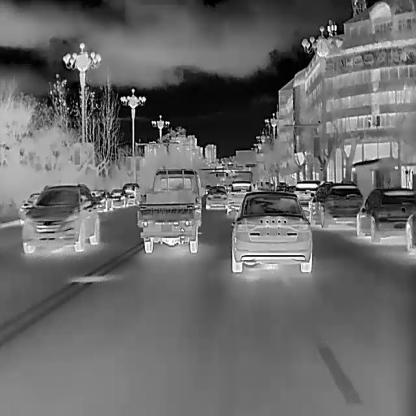car: (230, 191, 312, 272), (136, 168, 201, 253), (21, 184, 99, 254), (355, 187, 415, 244), (308, 181, 364, 228), (294, 181, 320, 223), (226, 181, 254, 215), (17, 190, 41, 224), (205, 185, 228, 211), (89, 189, 112, 213), (120, 183, 140, 206), (109, 188, 127, 207)
